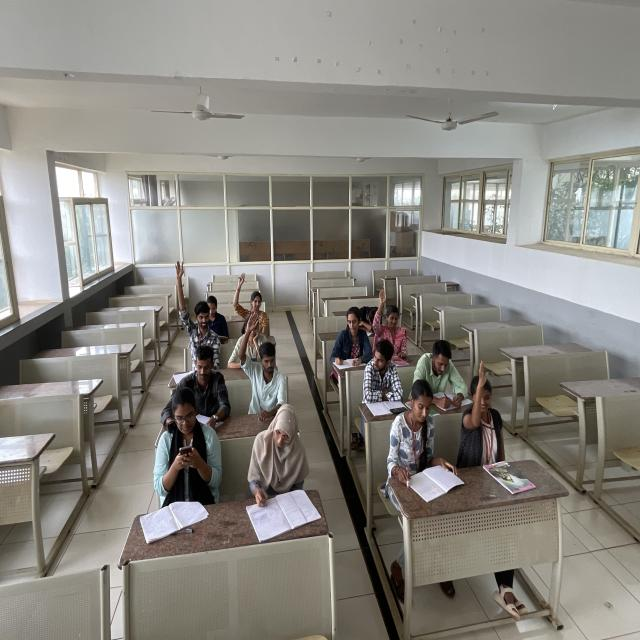Hand Rising: (240, 313, 288, 410), (175, 262, 220, 357), (463, 356, 504, 460), (374, 288, 410, 359), (234, 272, 271, 327)
Using Phone: (160, 386, 220, 497)
Writing: (250, 402, 306, 524), (392, 382, 440, 489), (420, 338, 470, 410), (332, 308, 371, 372)
